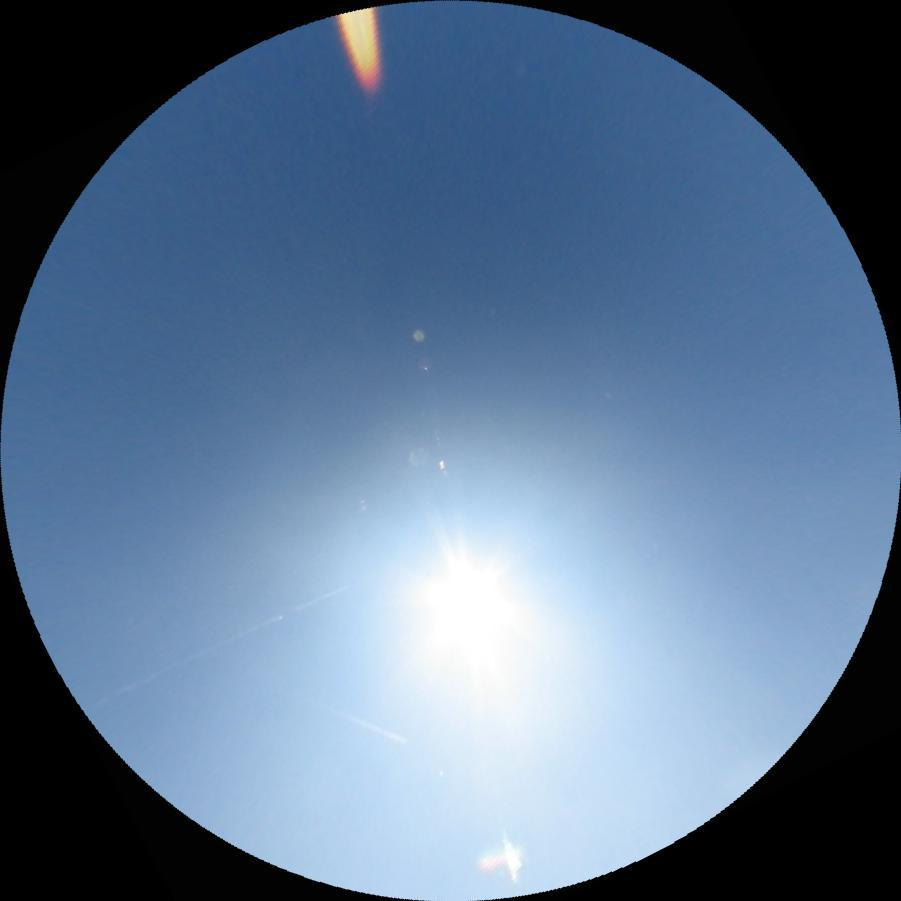contrail young: (284, 687, 402, 744)
parasite: (81, 574, 364, 713)
sun: (415, 550, 520, 661)
